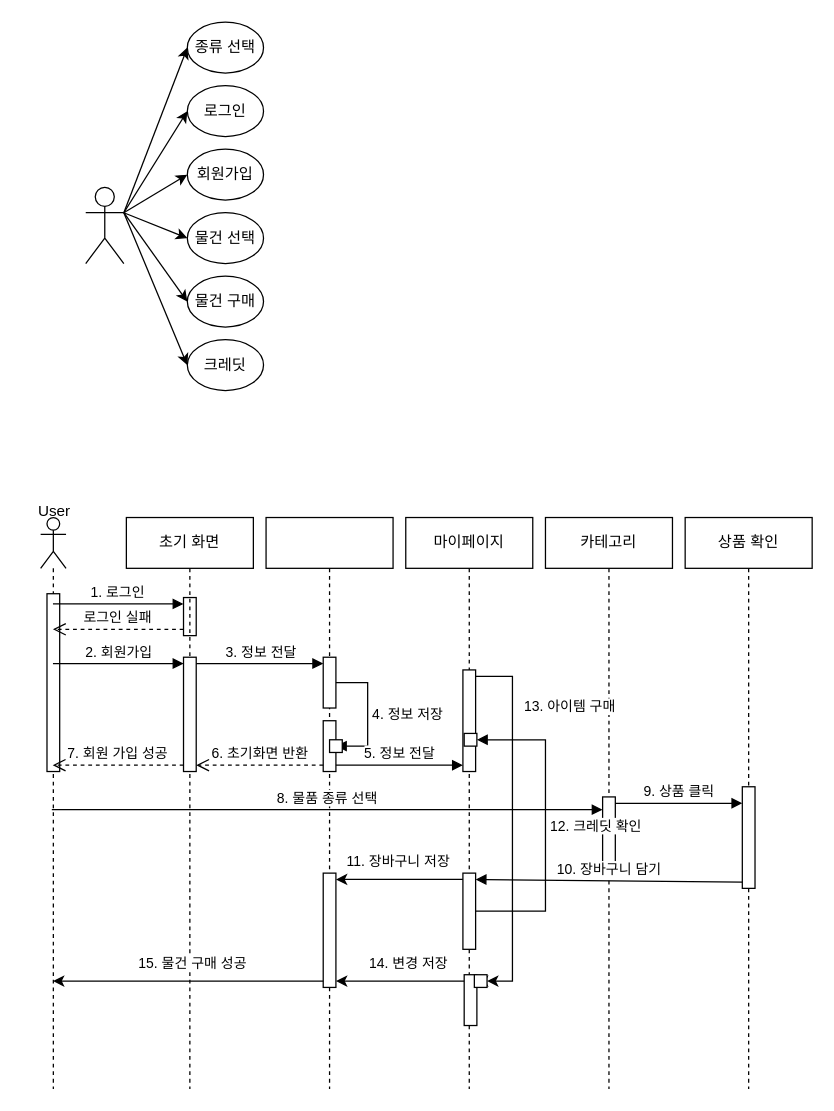
Some shapes in this 834 by 1111 pixel diagram are drawn without their labels. The shapes that lost their labels are listed below. From the top down, each one's centre as x and y in pixels, then its label:
the point at 104,225: Actor
the point at 329,802: 데이터베이스
